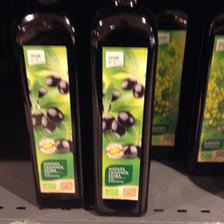Oel: (85, 0, 159, 216), (13, 0, 87, 206)
